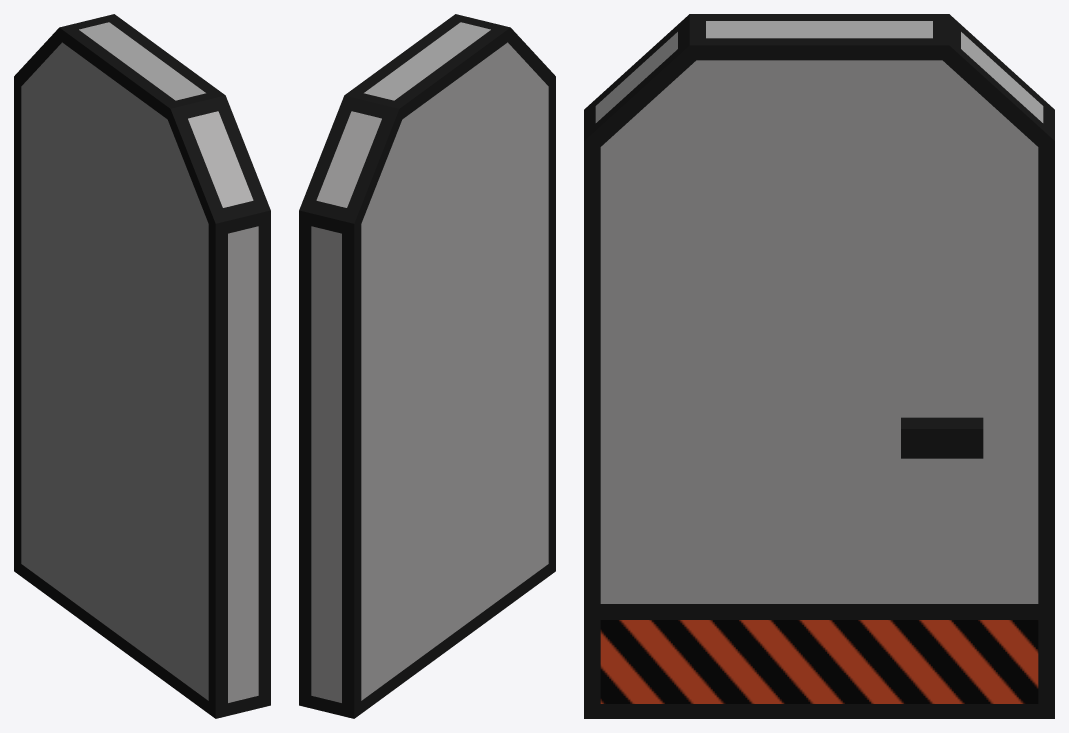
The model's file is Human Sized Door.fbx.
3 renders of one model, left to right at view 1: azimuth 30°, elevation 25°; view 2: azimuth 150°, elevation 25°; view 3: azimuth 270°, elevation 25°, orthographic. The views are drawn at different scales.
Visible parts, largest first — view 1: Human Sized Door; view 2: Human Sized Door; view 3: Human Sized Door.
Part boxes in pixels (x1,y1,x2,y2): Human Sized Door: (14, 14, 270, 718); Human Sized Door: (299, 14, 555, 718); Human Sized Door: (584, 14, 1054, 718).
Bounding box in the file's own units: 1.33 × 0.2844 × 2.1.
